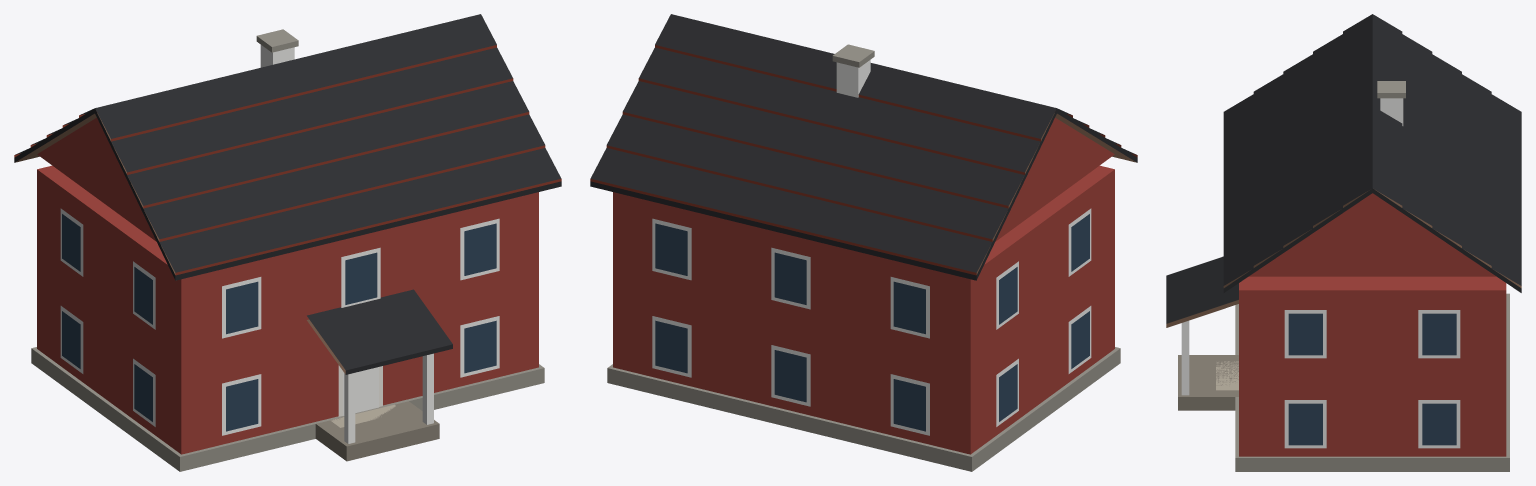
Rendered from maison_scandinave.glb.
The picture shows the model from 3 angles, left to right: view 1: azimuth 30°, elevation 25°; view 2: azimuth 150°, elevation 25°; view 3: azimuth 270°, elevation 25°; orthographic projection. The views are drawn at different scales.
Parts seen in each view (by area): view 1: maison_scandinave; view 2: maison_scandinave; view 3: maison_scandinave.
Part boxes in pixels (box(x1,y1,x2,y2)): maison_scandinave: box(14, 14, 561, 471); maison_scandinave: box(590, 14, 1137, 471); maison_scandinave: box(1166, 14, 1521, 471).
Size of the model in its own units: 10.8 by 8.75 by 9.3.
1 material, 1 textured.
